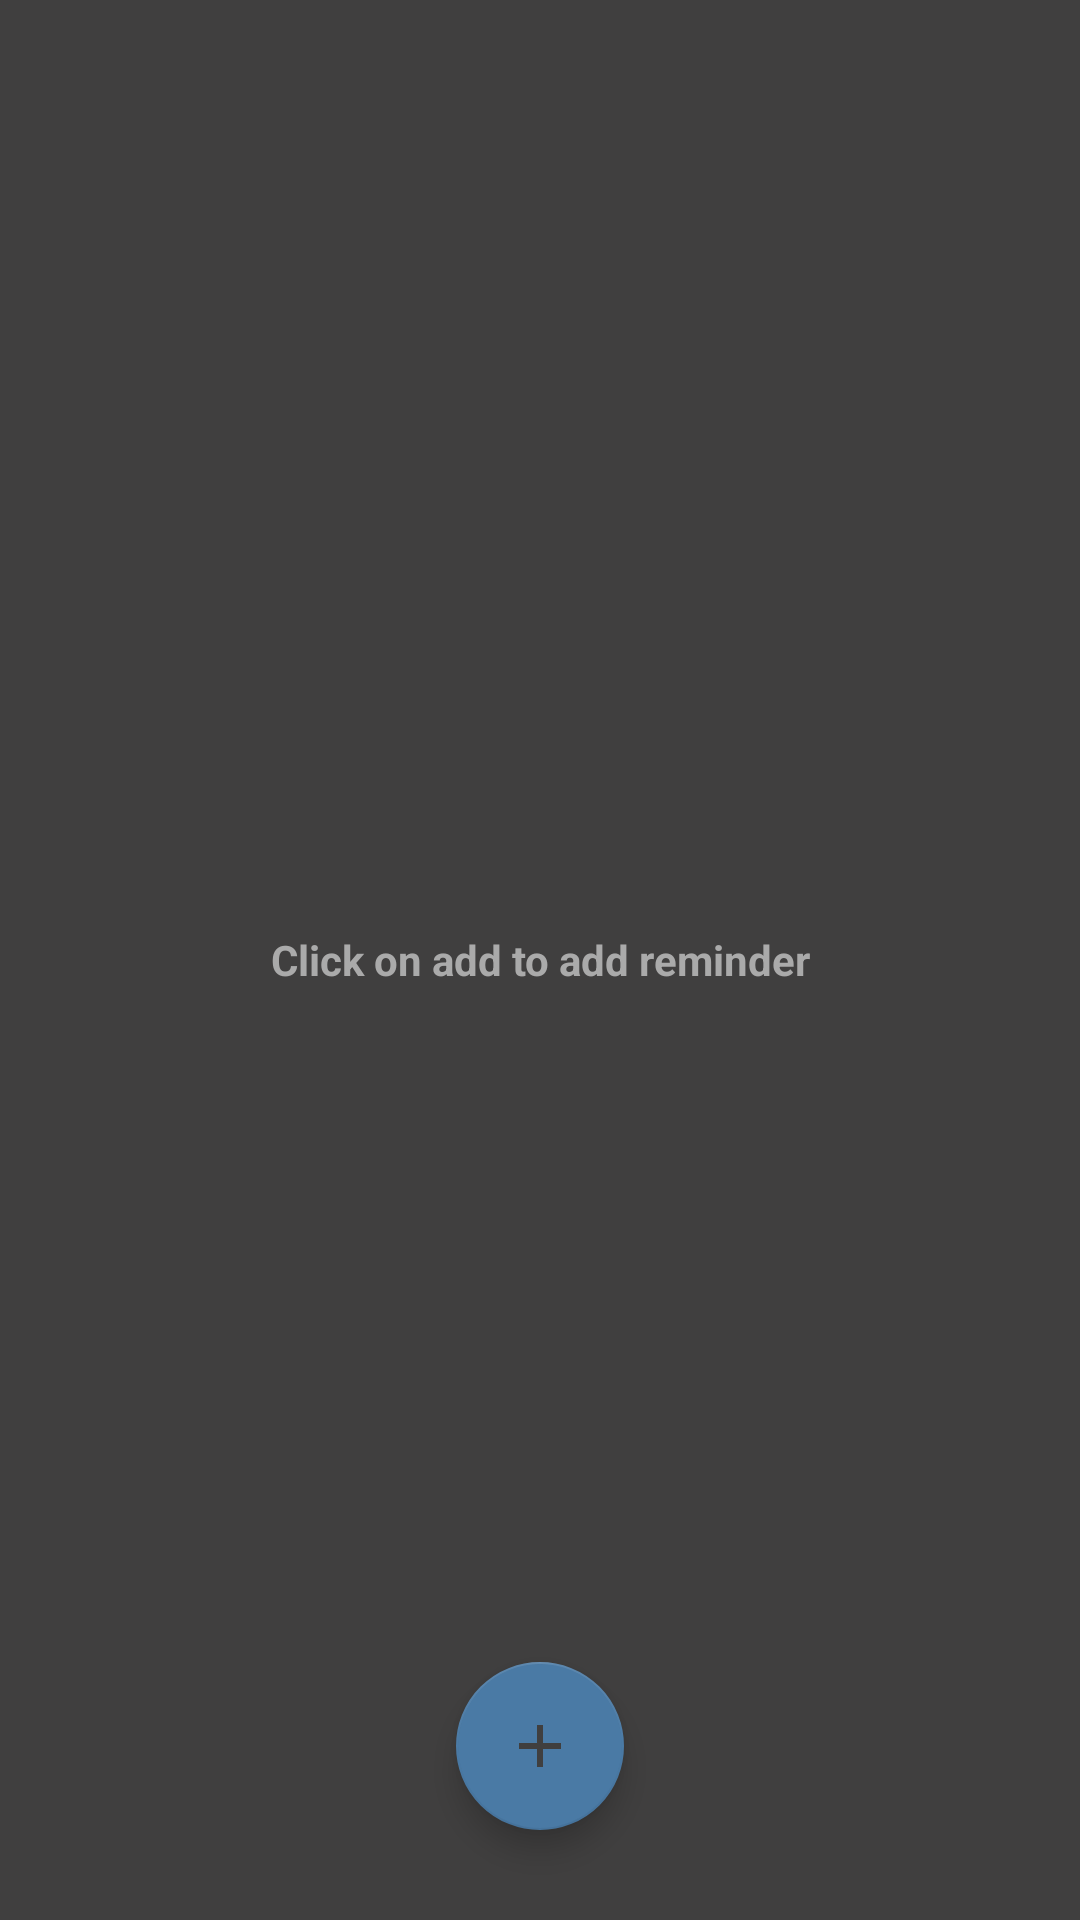

Icon click points for this 1080w x 1920h phone screenshot, format (x,y):
add: (540,1746)
